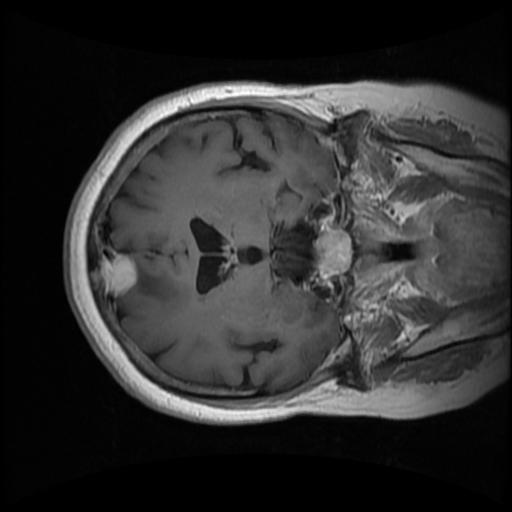meningioma: (100, 253, 136, 296)
